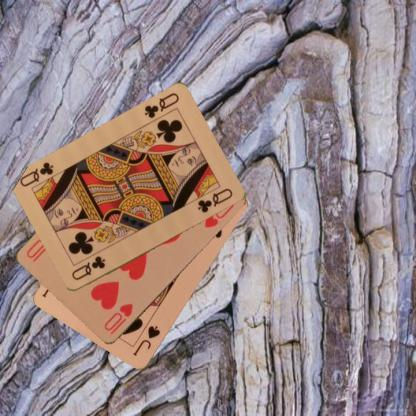10h: (101, 301, 135, 337)
Js: (130, 323, 162, 358)
Qc: (142, 90, 180, 120), (69, 254, 107, 282)
